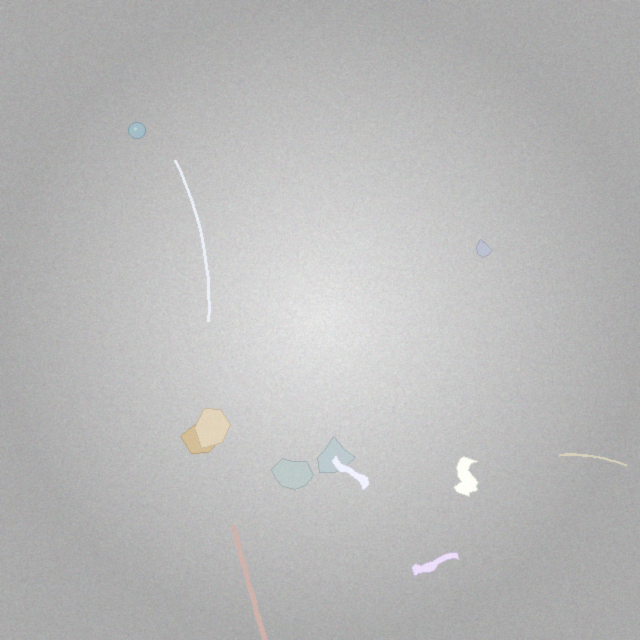fiber: (172, 157, 213, 326), (228, 520, 270, 639), (556, 451, 630, 469)
film: (331, 454, 369, 492), (412, 553, 459, 576), (454, 457, 479, 496)
fragment: (195, 408, 231, 448), (180, 421, 222, 453), (318, 437, 355, 473), (272, 458, 313, 490), (477, 240, 493, 258)
pellet: (129, 122, 145, 139)
